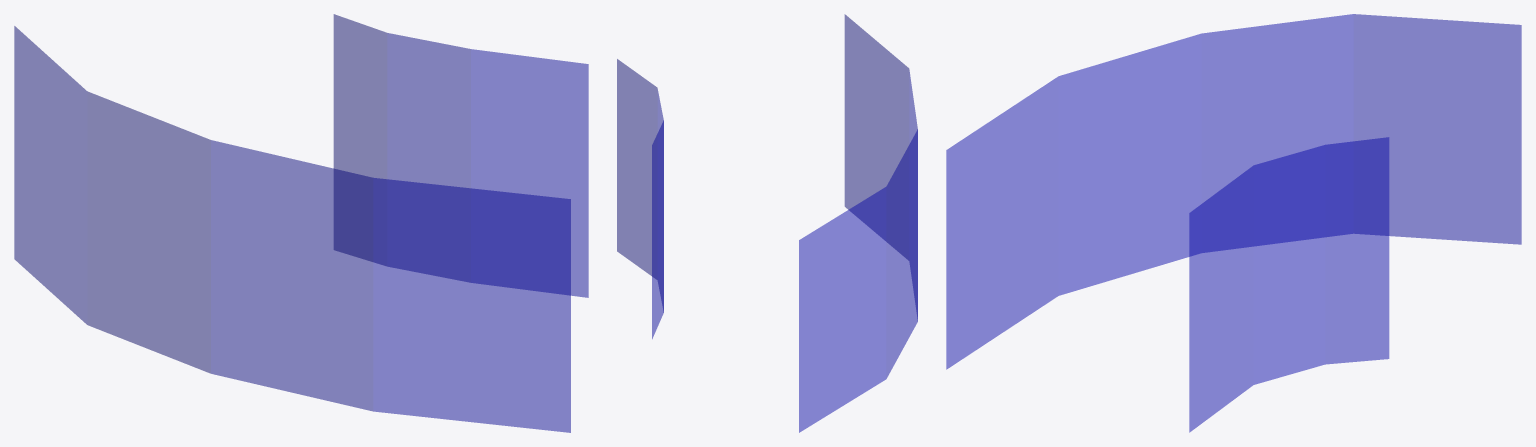
File: track_military_coll_wall_22.fbx
The picture shows the model from 3 angles, left to right: view 1: azimuth 30°, elevation 25°; view 2: azimuth 150°, elevation 25°; view 3: azimuth 270°, elevation 25°; orthographic projection. The views are drawn at different scales.
Parts seen in each view (by area): view 1: track_military_coll_wall_22; view 2: track_military_coll_wall_22; view 3: track_military_coll_wall_22.
Boxes of the visible parts, x1,y1,x2,y2 form: track_military_coll_wall_22: [14, 14, 588, 432]; track_military_coll_wall_22: [617, 14, 917, 432]; track_military_coll_wall_22: [946, 14, 1521, 432].
Size of the model in its own units: 59.04 by 33.89 by 75.6.
